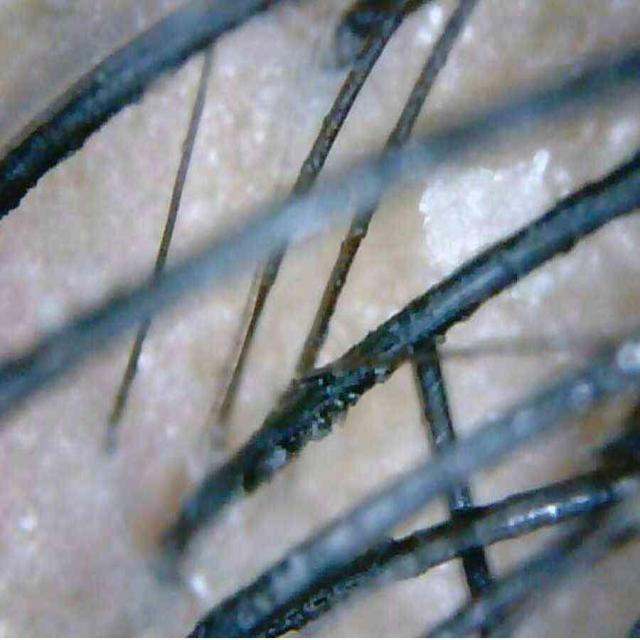d: (419, 149, 572, 271)
